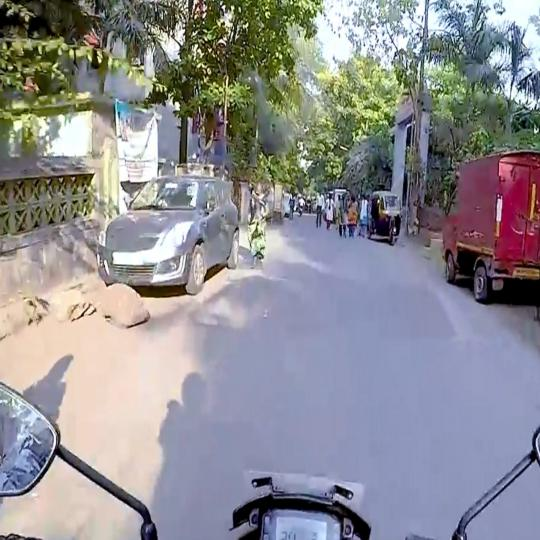Speed Bump: (208, 269, 486, 342)
